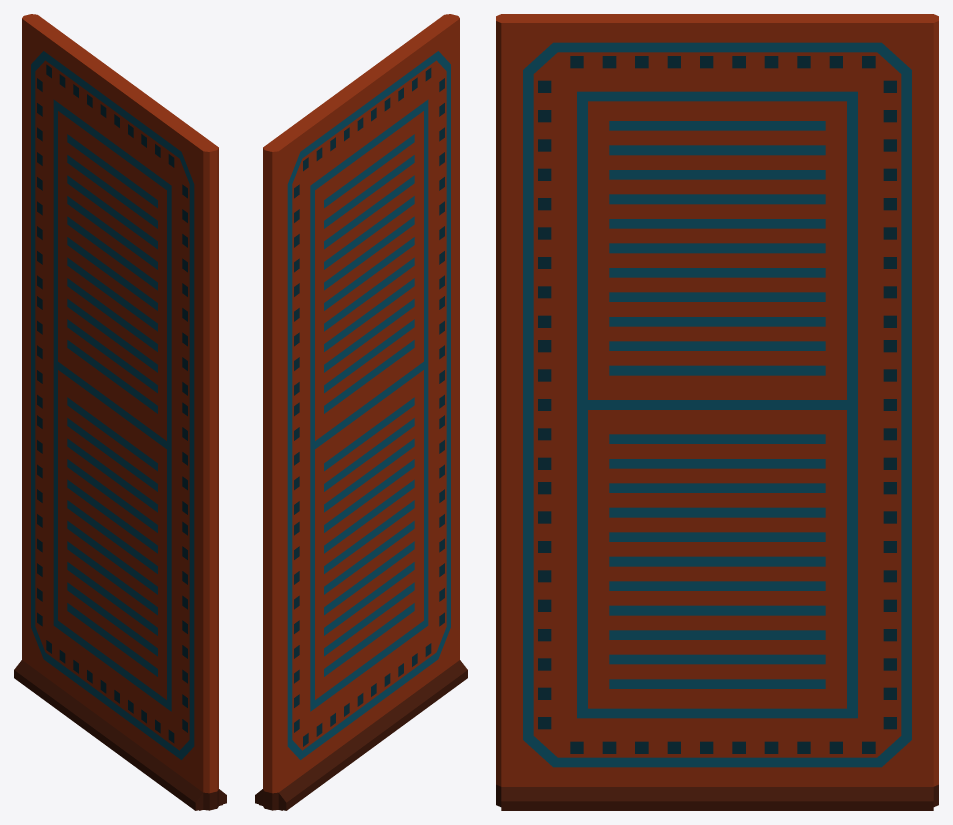
Rendered from Wall_1-4.fbx.
3 views of the same model, side by side, from view 1: azimuth 30°, elevation 25°; view 2: azimuth 150°, elevation 25°; view 3: azimuth 270°, elevation 25° (orthographic). The views are drawn at different scales.
Parts seen in each view (by area): view 1: Wall_1-4; view 2: Wall_1-4; view 3: Wall_1-4.
Part boxes in pixels (<box>): Wall_1-4: <box>14,14,226,810</box>; Wall_1-4: <box>255,14,467,810</box>; Wall_1-4: <box>496,14,938,810</box>.
Bounding box in the file's own units: 0.4 × 4.1 × 8.01.
